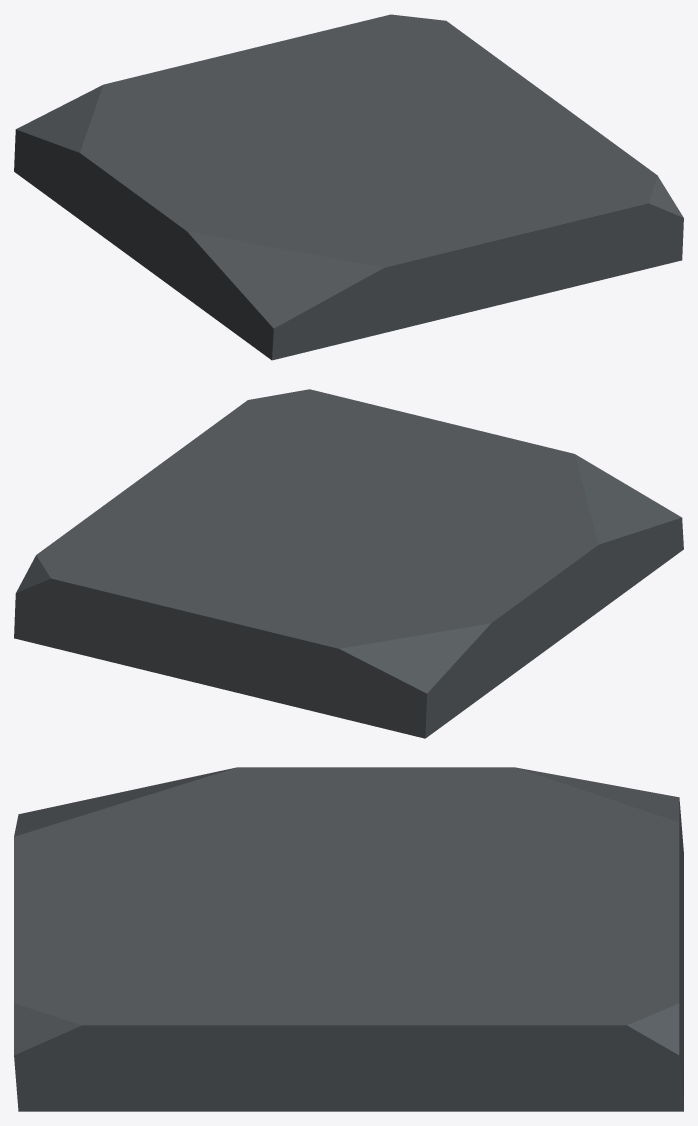
File: Tile_01.fbx
The picture shows the model from 3 angles, top to bottom: view 1: azimuth 30°, elevation 25°; view 2: azimuth 150°, elevation 25°; view 3: azimuth 270°, elevation 25°; orthographic projection. The views are drawn at different scales.
Parts seen in each view (by area): view 1: Tile_01_LOD0; view 2: Tile_01_LOD0; view 3: Tile_01_LOD0.
Part boxes in pixels (box(x1,y1,x2,y2)): Tile_01_LOD0: box(14, 14, 683, 360); Tile_01_LOD0: box(14, 389, 683, 738); Tile_01_LOD0: box(14, 767, 683, 1111).
Size of what is drawn, in the model's own units: 43.29 by 6.75 by 47.46.
